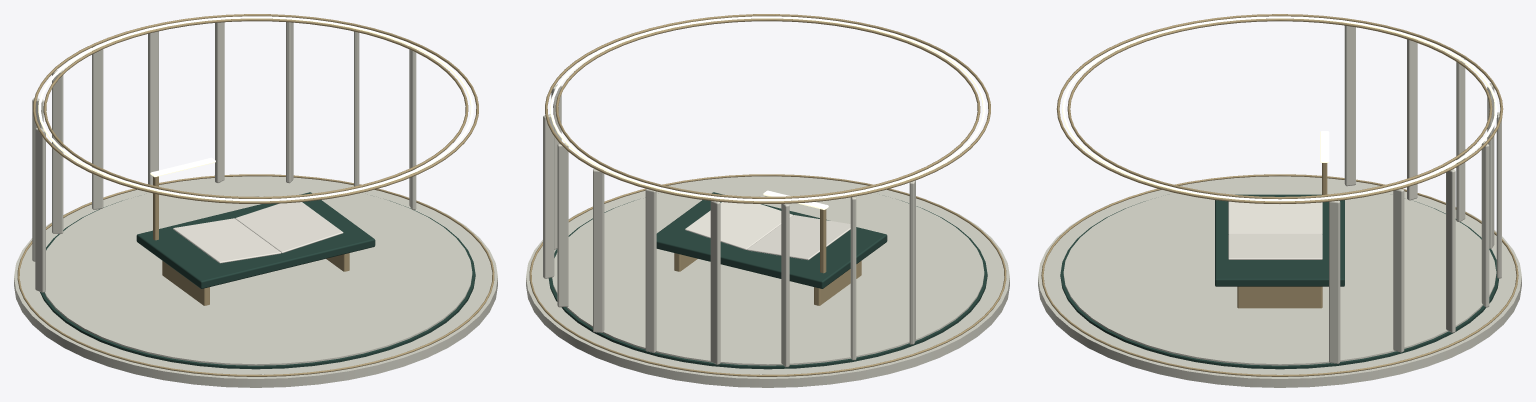
Rendered from notes.glb.
3 renders of one model, left to right at view 1: azimuth 30°, elevation 25°; view 2: azimuth 150°, elevation 25°; view 3: azimuth 270°, elevation 25°, orthographic.
Parts seen in each view (by area): view 1: notes; view 2: notes; view 3: notes.
Boxes of the visible parts, bbox=[...] form: notes: bbox=[14, 14, 497, 387]; notes: bbox=[526, 14, 1009, 387]; notes: bbox=[1038, 14, 1521, 387].
Bounding box in the file's own units: 10.8 × 4.38 × 10.8.
